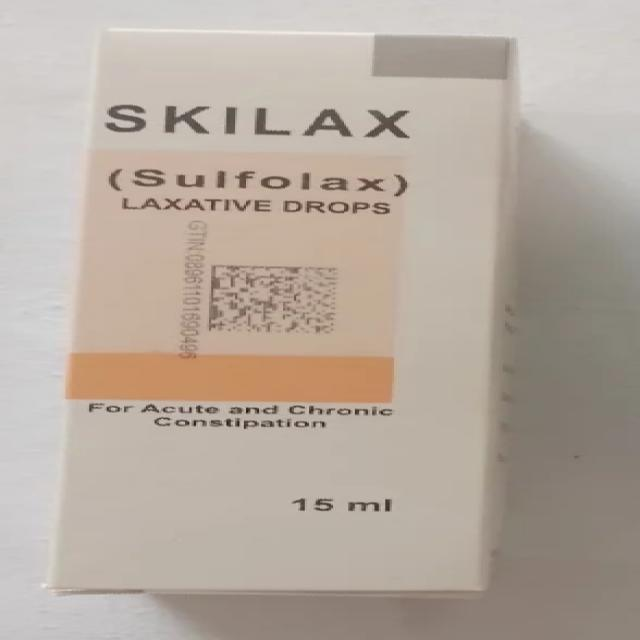drug-name: (104, 98, 413, 143)
